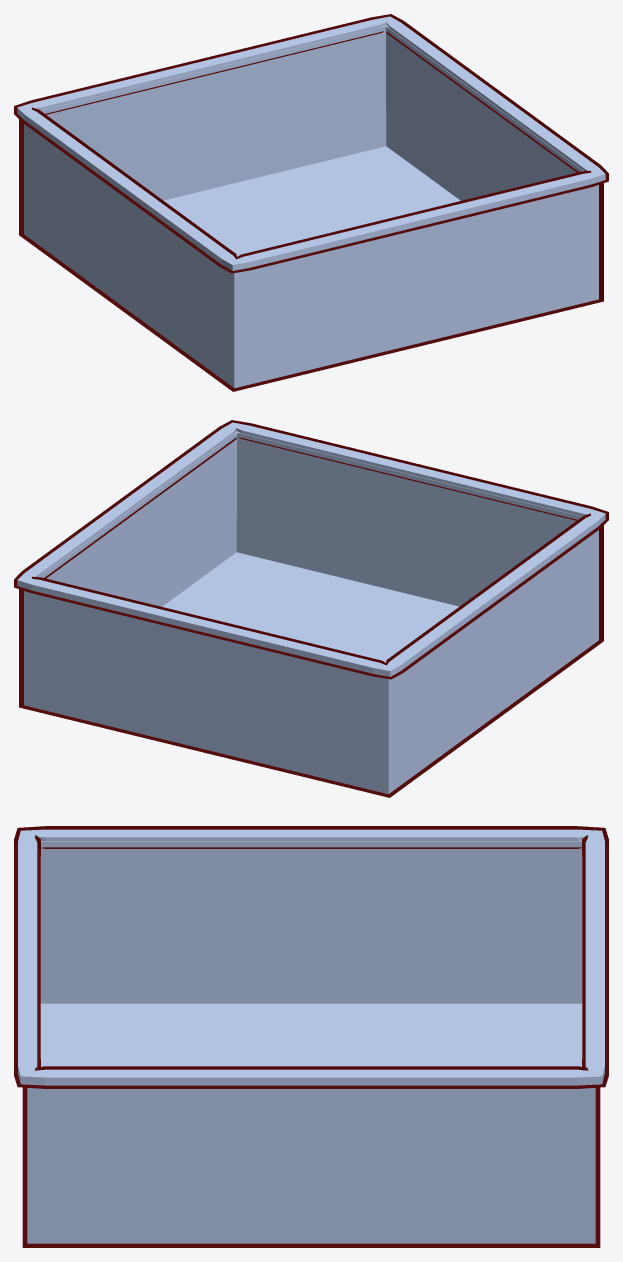
File: forma quadrada.glb
The picture shows the model from 3 angles, top to bottom: view 1: azimuth 30°, elevation 25°; view 2: azimuth 150°, elevation 25°; view 3: azimuth 270°, elevation 25°; orthographic projection. The views are drawn at different scales.
Visible parts, largest first — view 1: Cube.005, Cube.006; view 2: Cube.005, Cube.006; view 3: Cube.005, Cube.006.
Boxes of the visible parts, x1,y1,x2,y2 form: Cube.005: (19,25,603,391); Cube.006: (14,14,608,273); Cube.005: (19,431,603,797); Cube.006: (14,420,608,679); Cube.005: (22,841,600,1247); Cube.006: (14,826,608,1088).
Bounding box in the file's own units: 22.22 × 7.19 × 22.22.
